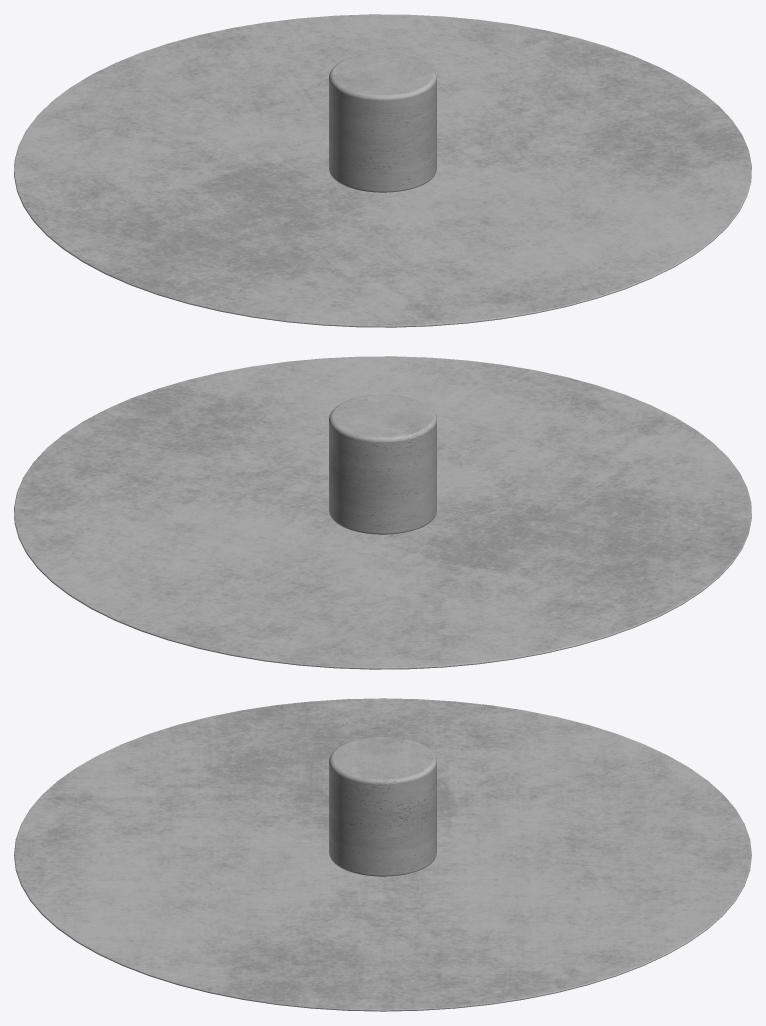
Rendered from Project Name (4).glb.
3 renders of one model, top to bottom at view 1: azimuth 30°, elevation 25°; view 2: azimuth 150°, elevation 25°; view 3: azimuth 270°, elevation 25°, orthographic.
Parts seen in each view (by area): view 1: Cylinder 1, Cylinder; view 2: Cylinder 1, Cylinder; view 3: Cylinder 1, Cylinder.
Boxes of the visible parts, <box> form: Cylinder 1: <box>14,14,751,327</box>; Cylinder: <box>329,52,436,192</box>; Cylinder 1: <box>14,356,751,669</box>; Cylinder: <box>329,394,436,534</box>; Cylinder 1: <box>14,698,751,1011</box>; Cylinder: <box>329,736,436,876</box>.
Bounding box in the file's own units: 0.6838 × 0.1 × 0.6838.
Materials: 2 (2 with a texture image).
